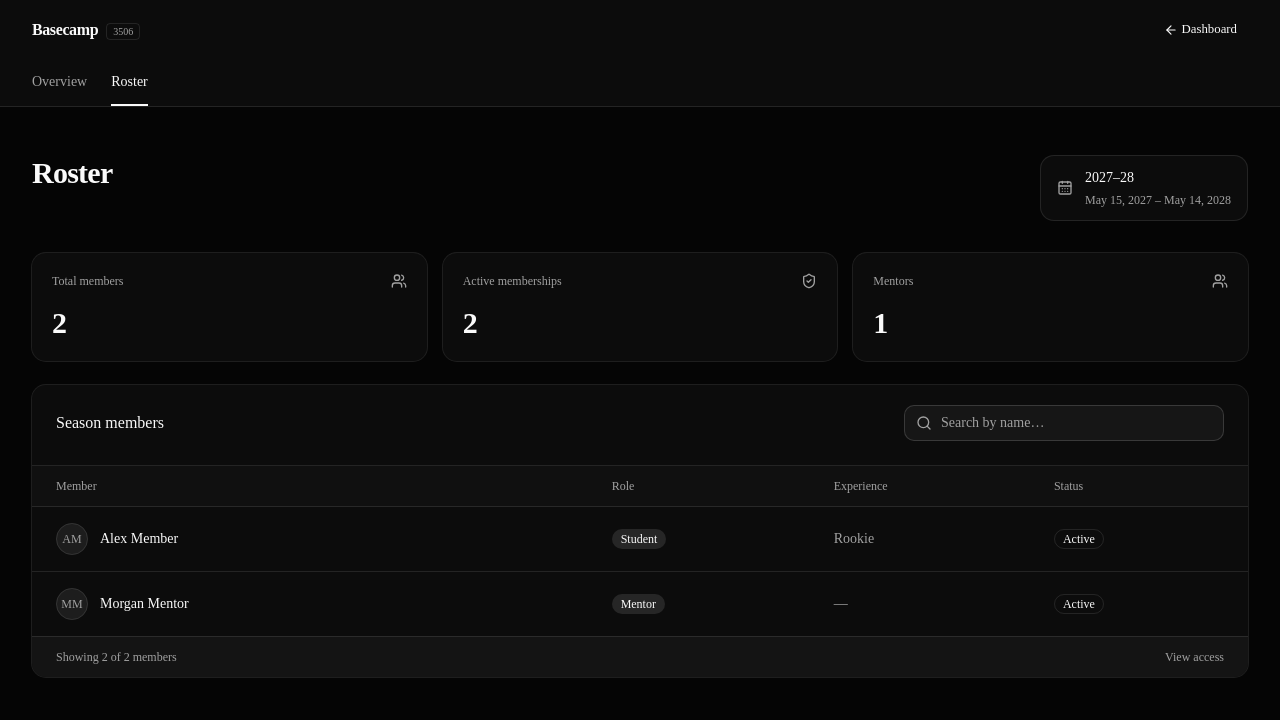
requires every search word to match the member name
The image size is (1280, 720).
Type "Morgan Alex" into the search field named "Search members" at (1064, 423), box x1=904 y1=405 x2=1224 y2=441
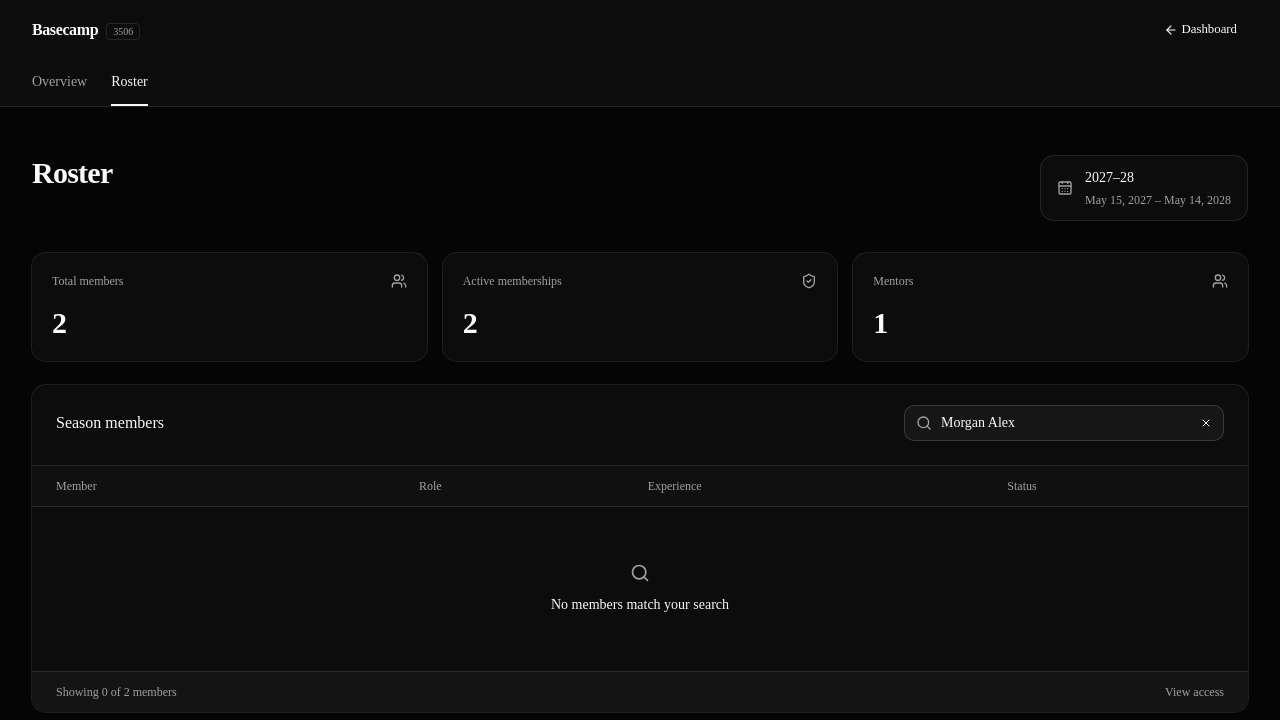
Now the text "No members match your search" is shown, box x1=551 y1=597 x2=729 y2=612
